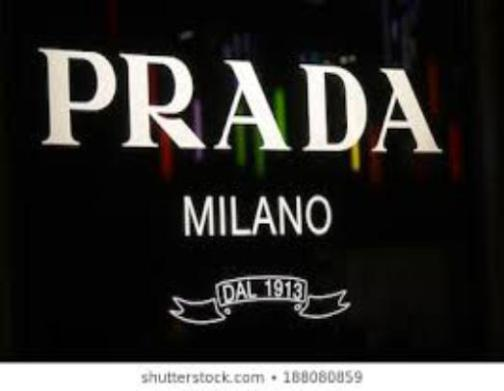PRADA: (35, 35, 443, 172)
